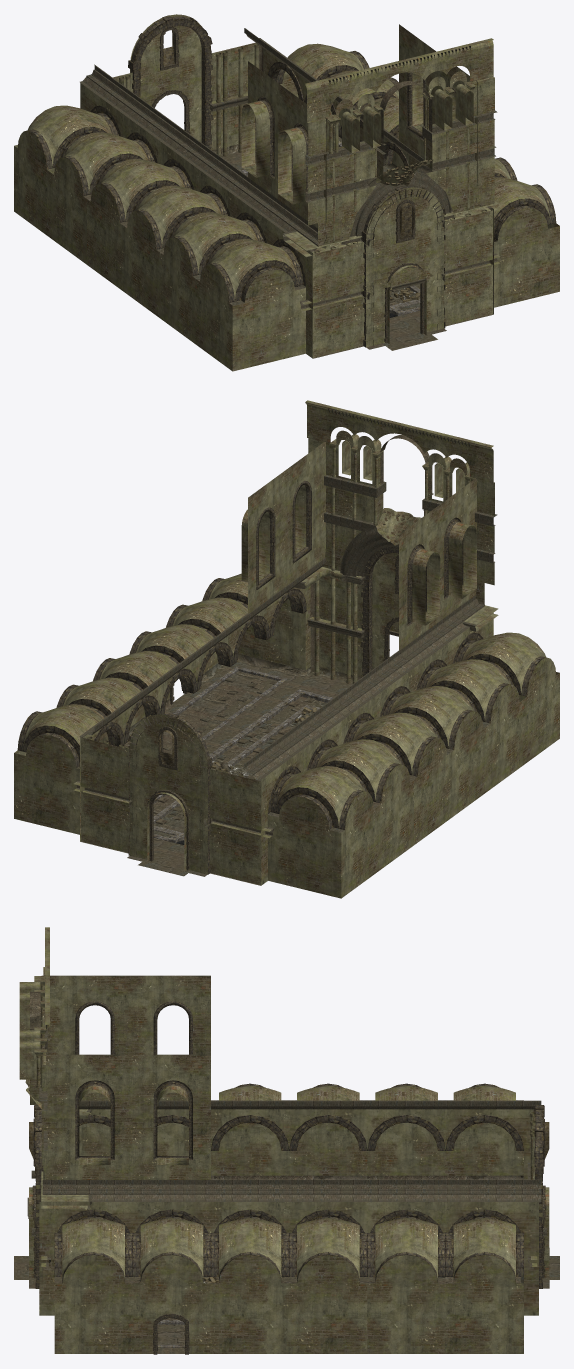
File: testmap.fbx
3 renders of one model, top to bottom at view 1: azimuth 30°, elevation 25°; view 2: azimuth 150°, elevation 25°; view 3: azimuth 270°, elevation 25°, orthographic. The views are drawn at different scales.
Parts seen in each view (by area): view 1: m0200B1A18; view 2: m0200B1A18; view 3: m0200B1A18.
Part boxes in pixels (x1,y1,x2,y2): m0200B1A18: (14,14,559,371); m0200B1A18: (14,400,559,898); m0200B1A18: (14,927,559,1354).
Bounding box in the file's own units: 2347 × 3141 × 1929.
